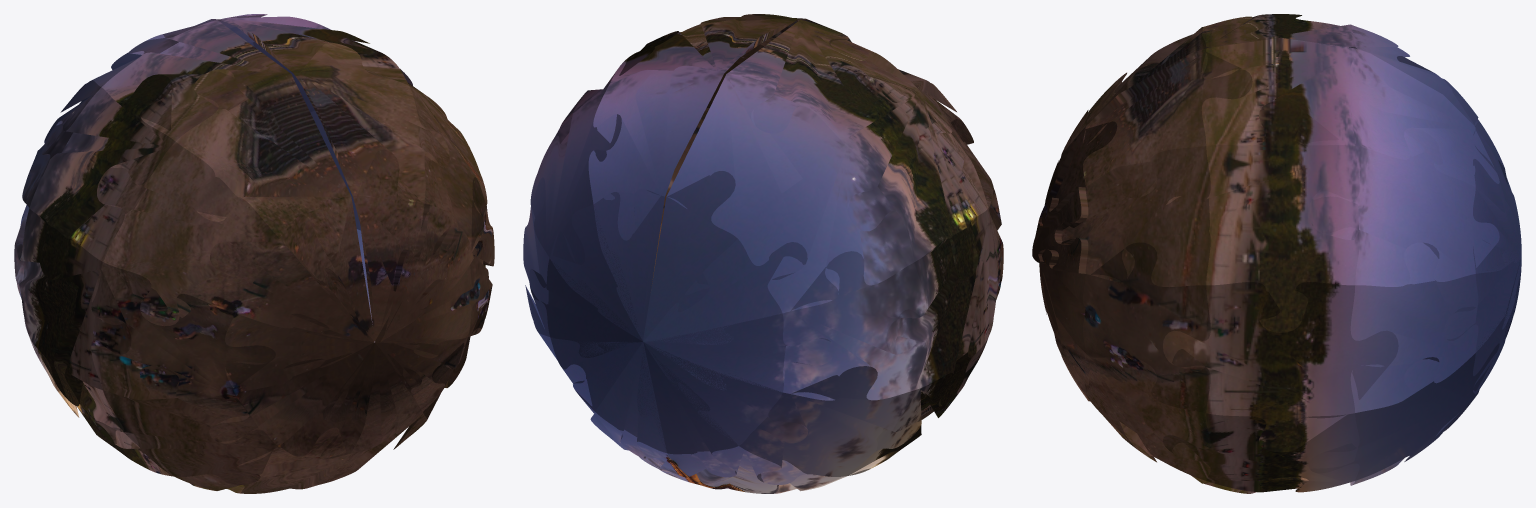
The model's file is easy-prot1.fbx.
The picture shows the model from 3 angles, left to right: view 1: azimuth 30°, elevation 25°; view 2: azimuth 150°, elevation 25°; view 3: azimuth 270°, elevation 25°; orthographic projection.
Visible parts, largest first — view 1: Street View 360 1.037, Street View 360 1.005, Street View 360 1.034, Street View 360 1.038, Street View 360 1.026, Street View 360 1.036, Street View 360 1.039, Street View 360 1.004, Street View 360 1.045, Street View 360 1.044, Street View 360 1.052, Street View 360 1.047 (+16 smaller); view 2: Street View 360 1.017, Street View 360 1.018, Street View 360 1.034, Street View 360 1.003, Street View 360 1.025, Street View 360 1.019, Street View 360 1.026, Street View 360 1.004, Street View 360 1.002, Street View 360 1.015, Street View 360 1.024, Street View 360 1.033 (+16 smaller); view 3: Street View 360 1.032, Street View 360 1.031, Street View 360 1.024, Street View 360 1.035, Street View 360 1.033, Street View 360 1.043, Street View 360 1.023, Street View 360 1.036, Street View 360 1.030, Street View 360 1.025, Street View 360 1.042, Street View 360 1.022 (+13 smaller).
Boxes of the visible parts, box(x1,y1,x2,y2) form: Street View 360 1.037: box(103, 141, 279, 326); Street View 360 1.005: box(176, 69, 351, 253); Street View 360 1.034: box(29, 74, 175, 279); Street View 360 1.038: box(91, 262, 275, 400); Street View 360 1.026: box(14, 208, 131, 403); Street View 360 1.036: box(293, 43, 449, 203); Street View 360 1.039: box(96, 366, 278, 485); Street View 360 1.004: box(101, 20, 290, 141); Street View 360 1.045: box(220, 238, 373, 341); Street View 360 1.044: box(353, 149, 424, 340); Street View 360 1.052: box(375, 204, 473, 341); Street View 360 1.047: box(216, 342, 373, 445); Street View 360 1.017: box(738, 142, 913, 313); Street View 360 1.018: box(782, 251, 926, 400); Street View 360 1.034: box(842, 74, 988, 274); Street View 360 1.003: box(666, 74, 841, 238); Street View 360 1.025: box(588, 65, 723, 240); Street View 360 1.019: box(739, 366, 921, 482); Street View 360 1.026: box(886, 208, 1003, 406); Street View 360 1.004: box(726, 20, 915, 141); Street View 360 1.002: box(643, 171, 737, 341); Street View 360 1.015: box(643, 239, 807, 344); Street View 360 1.024: box(530, 86, 621, 264); Street View 360 1.033: box(608, 14, 797, 102); Street View 360 1.032: box(1166, 101, 1359, 332); Street View 360 1.031: box(1163, 282, 1398, 452); Street View 360 1.024: box(1312, 127, 1499, 286); Street View 360 1.035: box(1061, 146, 1210, 287); Street View 360 1.033: box(1201, 37, 1398, 145); Street View 360 1.043: box(1083, 242, 1210, 412); Street View 360 1.023: box(1350, 242, 1478, 412); Street View 360 1.036: box(1083, 48, 1252, 196); Street View 360 1.030: box(1163, 413, 1359, 492); Street View 360 1.025: box(1350, 48, 1499, 187); Street View 360 1.042: box(1061, 344, 1210, 480); Street View 360 1.022: box(1310, 343, 1499, 480).
Bounding box in the file's own units: 7180 × 7221 × 7332.
